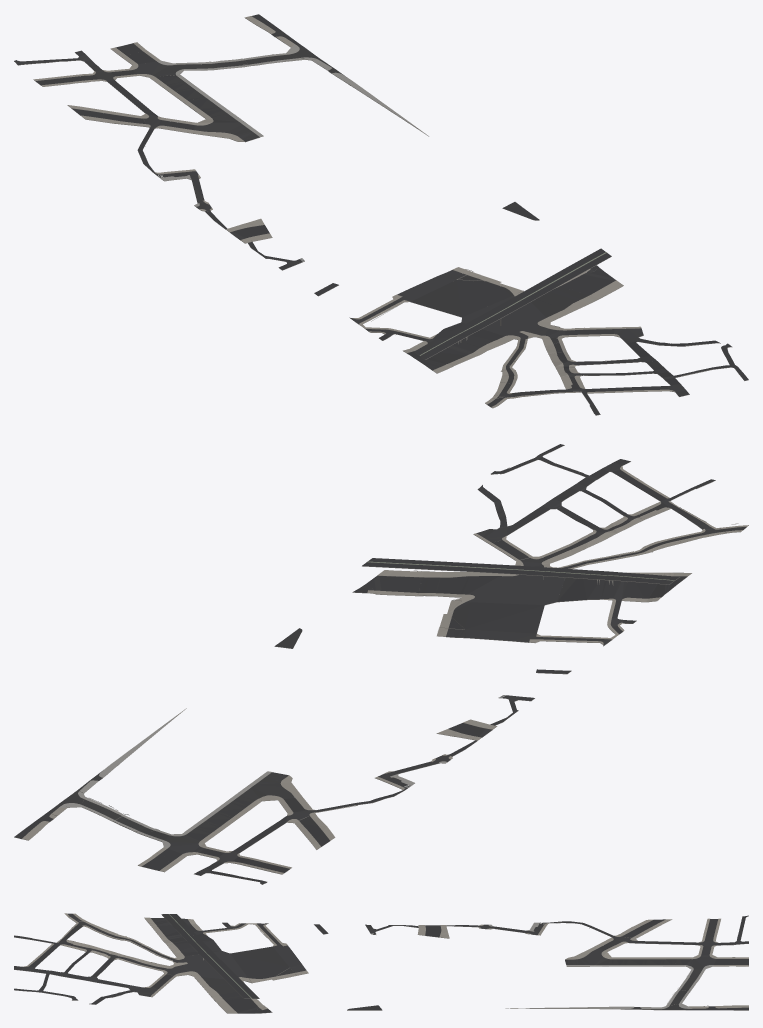
Rendered from exterior-middle.glb.
3 views of the same model, one above another, from view 1: azimuth 30°, elevation 25°; view 2: azimuth 150°, elevation 25°; view 3: azimuth 270°, elevation 25° (orthographic). The views are drawn at different scales.
Parts seen in each view (by area): view 1: ground_road, ground_sidewalk, ground_intersection, ground_kerb; view 2: ground_road, ground_sidewalk, ground_intersection, ground_kerb; view 3: ground_road, ground_sidewalk, ground_intersection, ground_kerb.
Part boxes in pixels (left/top/right/bottom): ground_road: left=14, top=14, right=748, bottom=415; ground_sidewalk: left=34, top=16, right=674, bottom=407; ground_intersection: left=78, top=47, right=737, bottom=398; ground_kerb: left=14, top=18, right=748, bottom=415; ground_road: left=14, top=444, right=746, bottom=884; ground_sidewalk: left=22, top=465, right=748, bottom=874; ground_intersection: left=60, top=454, right=718, bottom=872; ground_kerb: left=14, top=445, right=748, bottom=884; ground_road: left=14, top=913, right=748, bottom=1013; ground_sidewalk: left=24, top=913, right=748, bottom=1013; ground_intersection: left=21, top=921, right=742, bottom=1013; ground_kerb: left=14, top=914, right=748, bottom=1013.
Bounding box in the file's own units: 220 × 19.97 × 800.
8 materials, 2 textured.
